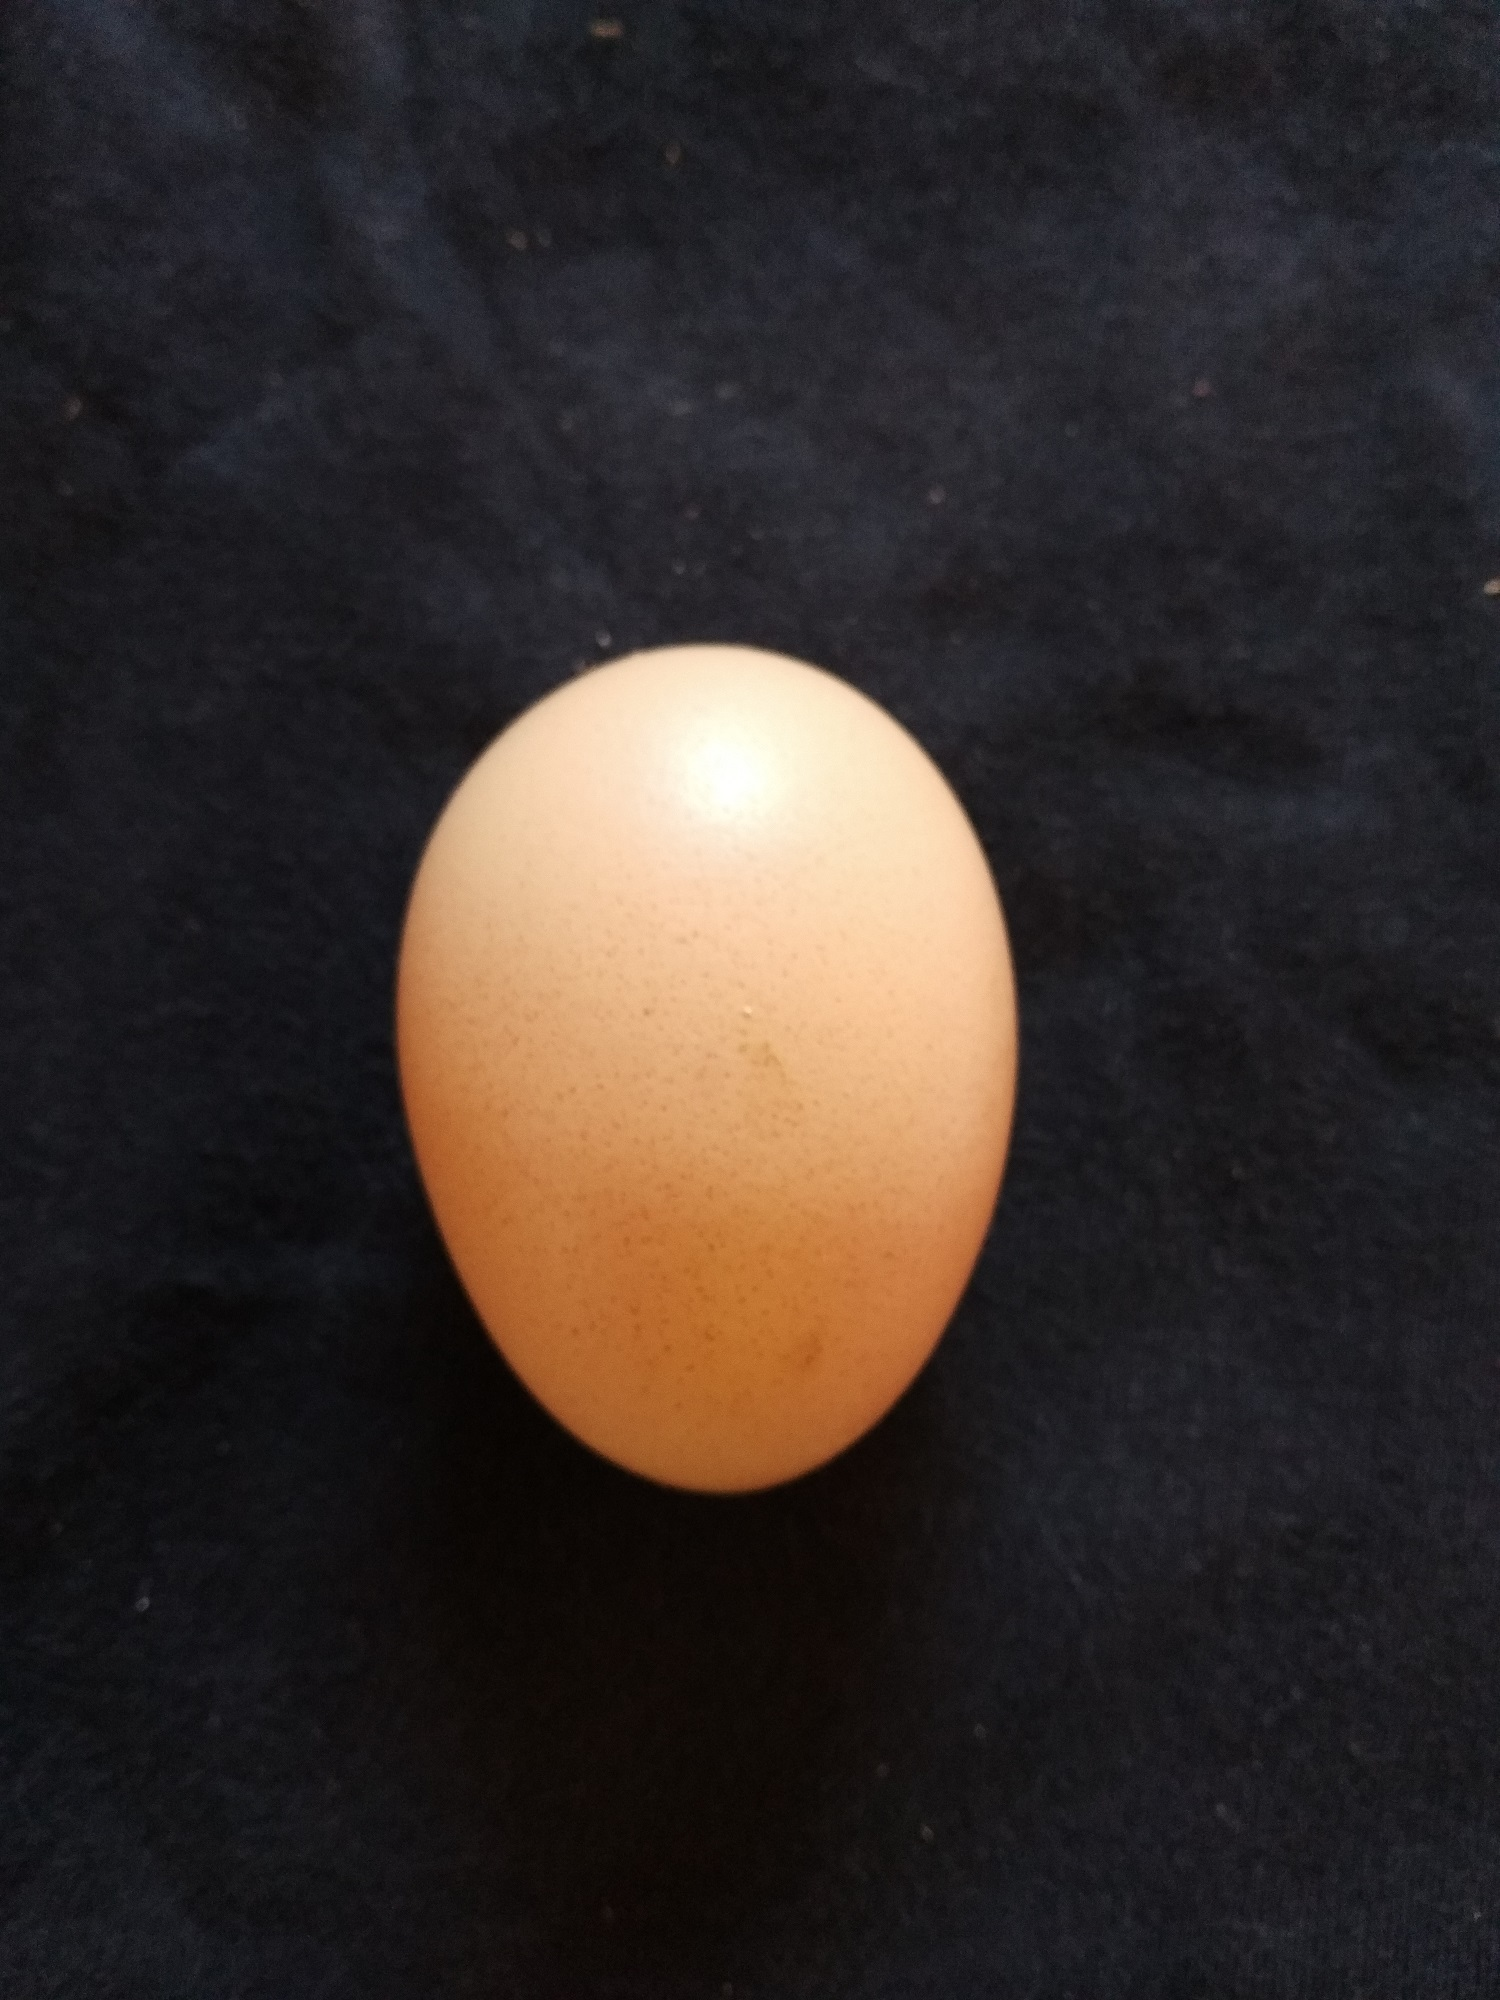Female: (391, 636, 1027, 1498)
